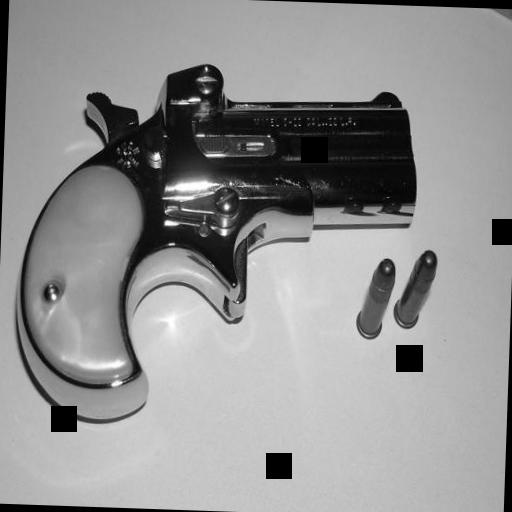Handgun: (9, 42, 424, 436)
